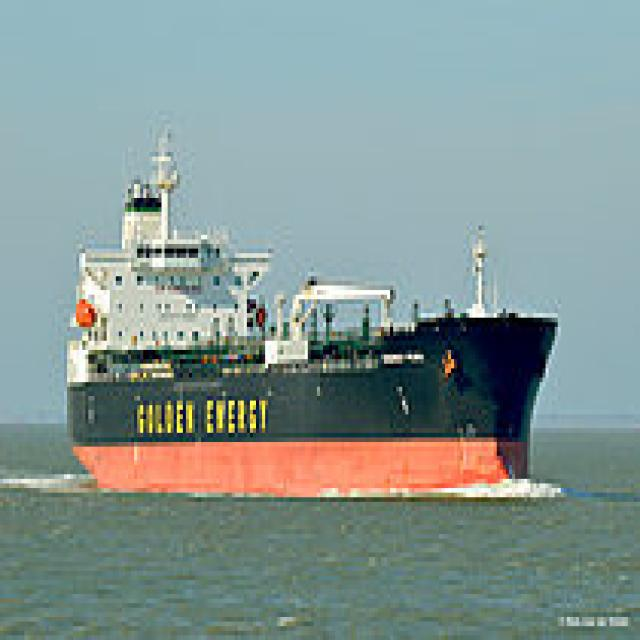Tanker: (61, 120, 555, 488)
